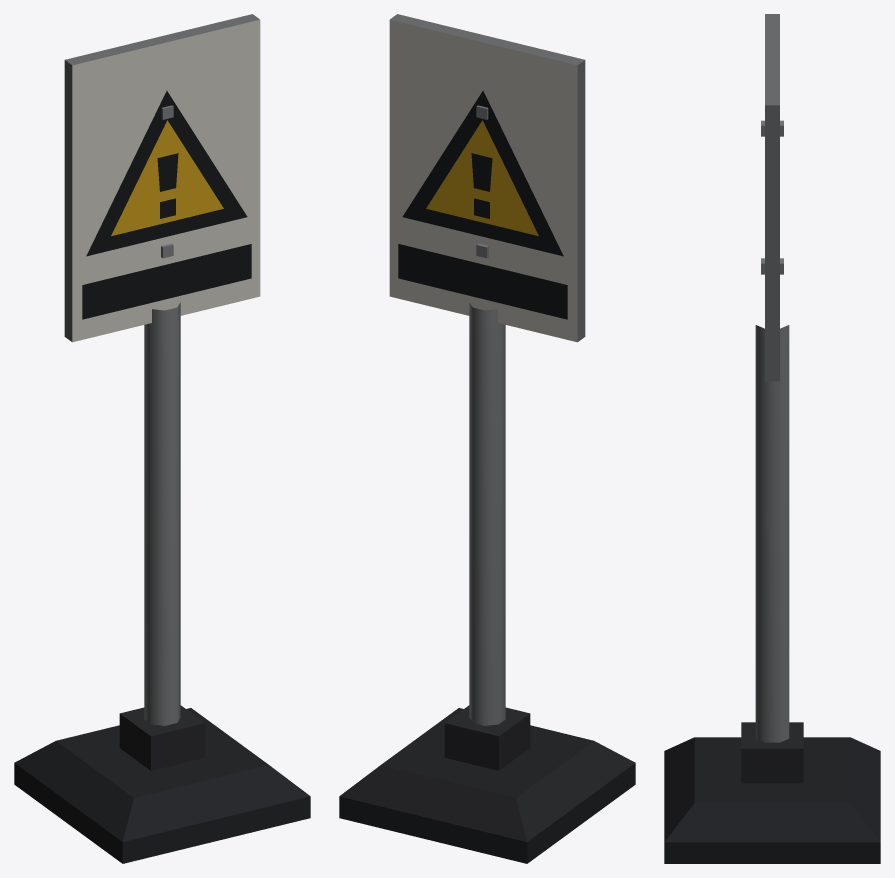
File: sign.warning.triangle.glb
The picture shows the model from 3 angles, left to right: view 1: azimuth 30°, elevation 25°; view 2: azimuth 150°, elevation 25°; view 3: azimuth 270°, elevation 25°; orthographic projection.
Visible parts, largest first — view 1: sign_warning_triangle; view 2: sign_warning_triangle; view 3: sign_warning_triangle.
Boxes of the visible parts, x1=… form: sign_warning_triangle: x1=14, y1=14, x2=310, y2=863; sign_warning_triangle: x1=339, y1=14, x2=635, y2=863; sign_warning_triangle: x1=664, y1=14, x2=880, y2=863.
Size of what is drawn, in the model's own units: 0.284 by 1.1 by 0.284.
